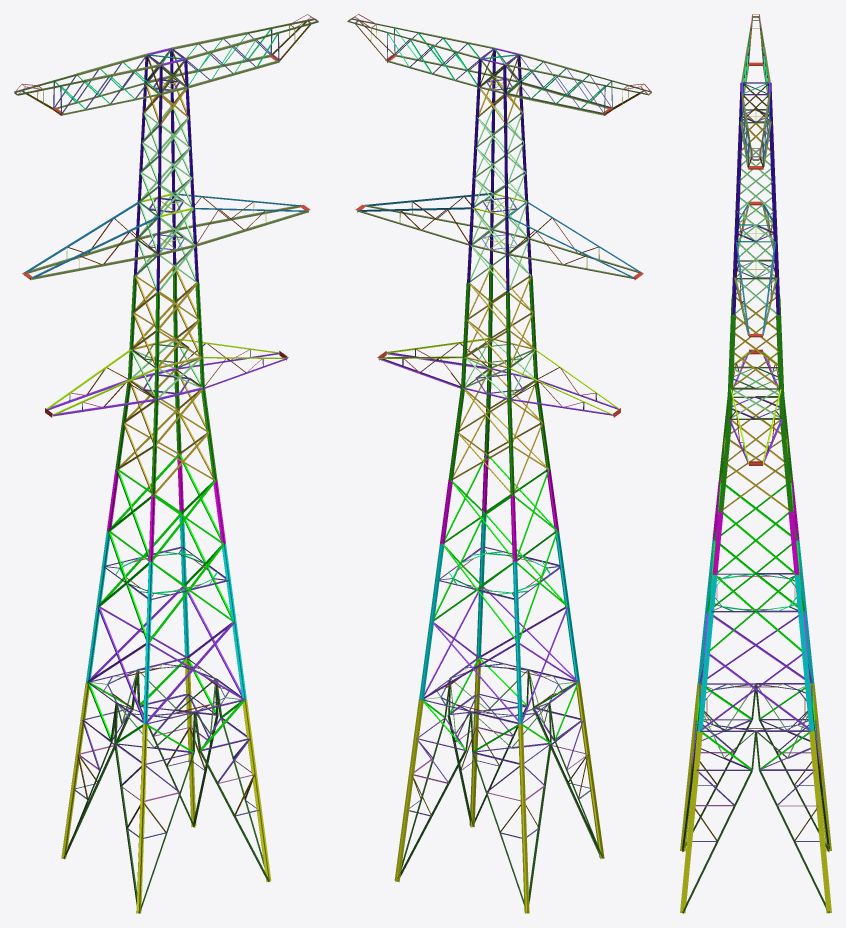
File: transmission-tower.glb
3 renders of one model, left to right at view 1: azimuth 30°, elevation 25°; view 2: azimuth 150°, elevation 25°; view 3: azimuth 270°, elevation 25°, orthographic. The views are drawn at different scales.
Parts seen in each view (by area): view 1: Q345L125x8, Q345L110x8, Q420 2L200X24+_copy, Q345L100x8, Q345L125x10, Q345L90x6, Q420 2L180X20+_copy, Q420L125x10, Q420L140x10, Q345L63x5, Q420 2L160X14+_copy, Q420L140x12 (+12 smaller); view 2: Q420 2L200X24+_copy, Q345L110x8, Q345L125x8, Q345L125x10, Q420 2L180X20+_copy, Q345L100x8, Q345L90x6, Q420L140x10, Q420 2L160X14+_copy, Q420L125x10, Q420 2L170X16+_copy, Q345L63x5 (+11 smaller); view 3: Q420 2L200X24+_copy, Q345L125x8, Q420 2L180X20+_copy, Q345L90x6, Q345L125x10, Q345L110x8, Q345L100x8, Q420L125x10, Q420 2L170X16+_copy, Q420 2L160X14+_copy, Q345L63x5, Q420 2L180X16+_copy (+13 smaller).
Part boxes in pixels (box(x1,y1,x2,y2)): Q345L125x8: box(87, 454, 244, 752); Q345L110x8: box(117, 78, 215, 495); Q420 2L200X24+_copy: box(61, 657, 271, 913); Q345L100x8: box(129, 106, 202, 398); Q345L125x10: box(63, 670, 268, 913); Q345L90x6: box(82, 49, 249, 792); Q420 2L180X20+_copy: box(86, 513, 246, 724); Q420L125x10: box(87, 48, 244, 723); Q420L140x10: box(54, 32, 279, 115); Q345L63x5: box(22, 20, 310, 838); Q420 2L160X14+_copy: box(128, 266, 204, 399); Q420L140x12: box(24, 204, 308, 279); Q420 2L200X24+_copy: box(394, 657, 604, 913); Q345L110x8: box(451, 76, 548, 495); Q345L125x8: box(421, 454, 578, 752); Q345L125x10: box(397, 670, 602, 912); Q420 2L180X20+_copy: box(419, 512, 579, 724); Q345L100x8: box(464, 106, 536, 397); Q345L90x6: box(416, 48, 583, 792); Q420L140x10: box(387, 32, 611, 115); Q420 2L160X14+_copy: box(461, 266, 537, 399); Q420L125x10: box(424, 48, 578, 723); Q420 2L170X16+_copy: box(448, 369, 550, 495); Q345L63x5: box(354, 20, 643, 838); Q420 2L200X24+_copy: box(680, 683, 831, 913); Q345L125x8: box(695, 482, 816, 769); Q420 2L180X20+_copy: box(697, 540, 814, 731); Q345L90x6: box(692, 82, 819, 805); Q345L125x10: box(682, 684, 829, 913); Q345L110x8: box(720, 112, 791, 511); Q345L100x8: box(732, 140, 780, 418); Q420L125x10: box(699, 82, 812, 731); Q420 2L170X16+_copy: box(718, 397, 793, 511); Q420 2L160X14+_copy: box(727, 296, 784, 419); Q345L63x5: box(689, 20, 822, 841); Q420 2L180X16+_copy: box(712, 481, 799, 575).
Size of the model in its own units: 24.67 by 64.15 by 11.04.
